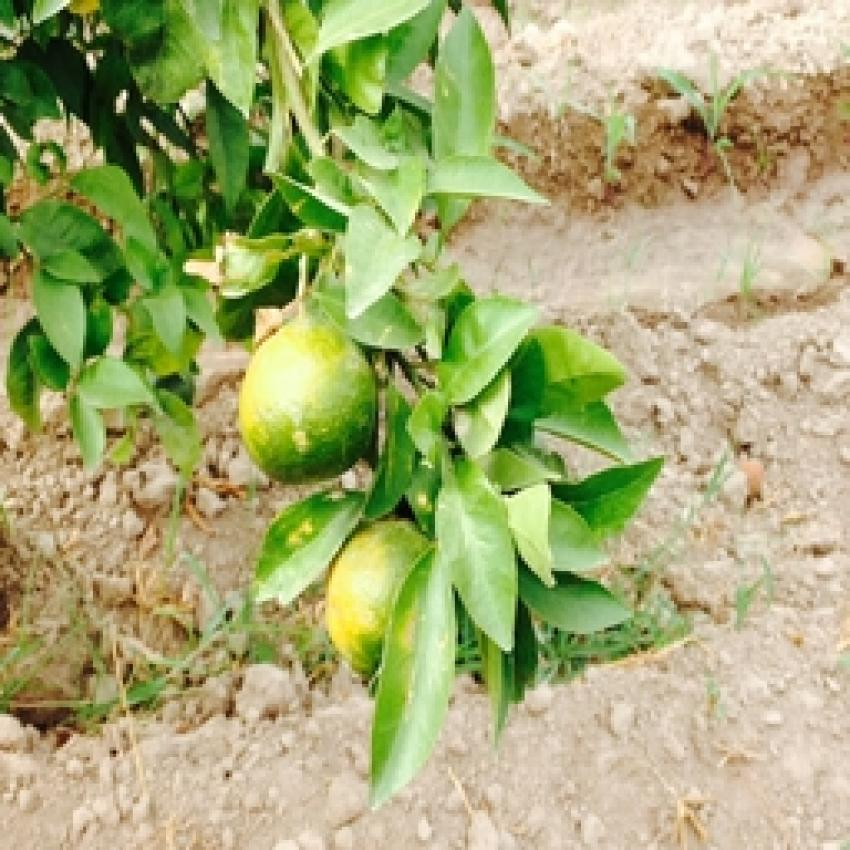Mal estado: (230, 296, 383, 490), (309, 507, 452, 700)
